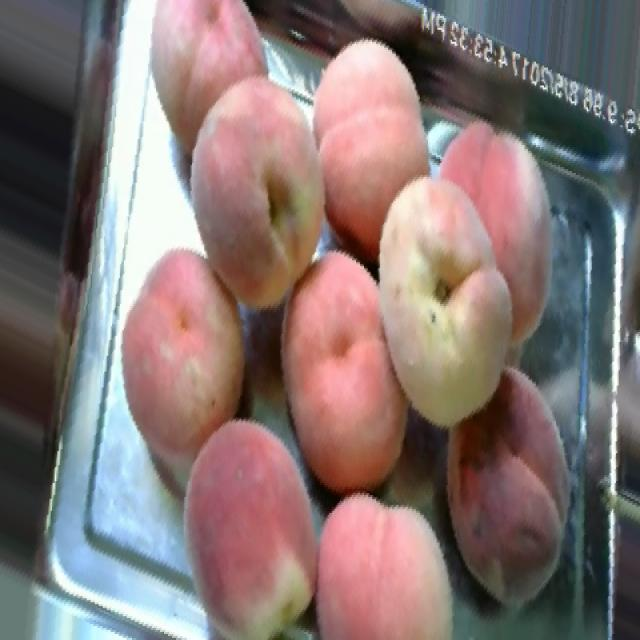Fruit: (167, 56, 348, 330), (359, 153, 525, 445), (255, 234, 424, 513), (426, 358, 594, 626), (97, 229, 268, 477), (153, 393, 321, 640), (296, 20, 444, 252), (314, 473, 486, 640), (125, 0, 288, 163)
